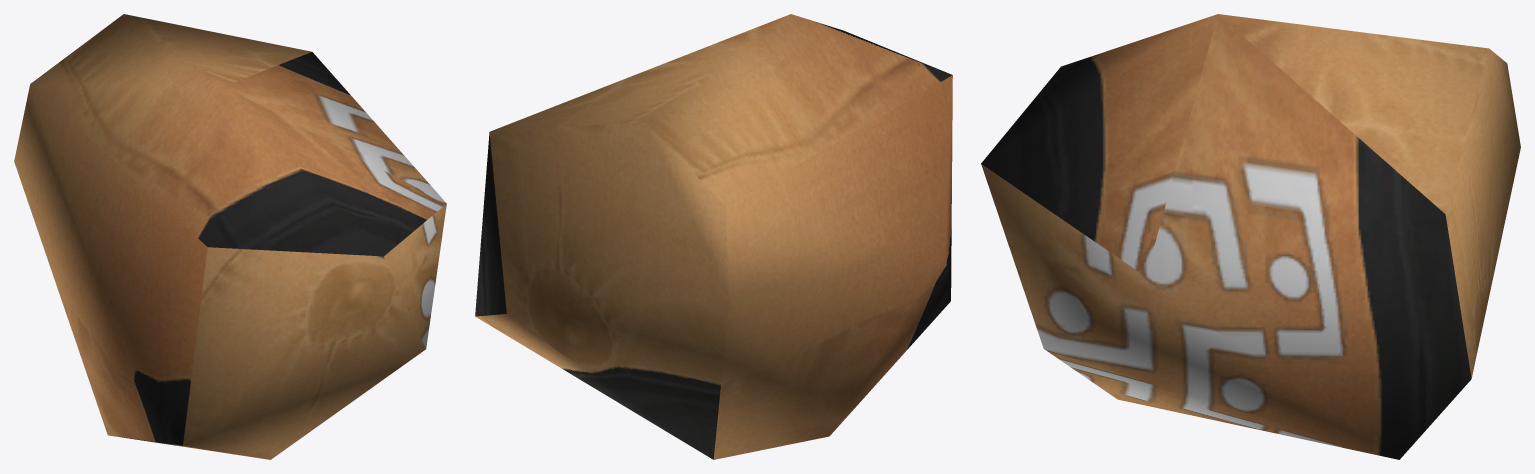
Rendered from dest_nt_nuked_female_01_head_LOD3.obj.
3 views of the same model, side by side, from view 1: azimuth 30°, elevation 25°; view 2: azimuth 150°, elevation 25°; view 3: azimuth 270°, elevation 25° (orthographic). The views are drawn at different scales.
Visible parts, largest first — view 1: mtl_nt_2020_manne_fem01_dress1; view 2: mtl_nt_2020_manne_fem01_dress1; view 3: mtl_nt_2020_manne_fem01_dress1.
Part boxes in pixels (x1,y1,x2,y2): mtl_nt_2020_manne_fem01_dress1: [14, 14, 446, 459]; mtl_nt_2020_manne_fem01_dress1: [475, 14, 952, 459]; mtl_nt_2020_manne_fem01_dress1: [981, 14, 1520, 459].
Size of the model in its own units: 26.13 by 25.63 by 31.01.
